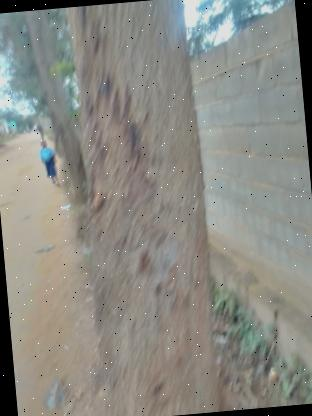tree: (22, 0, 233, 416)
